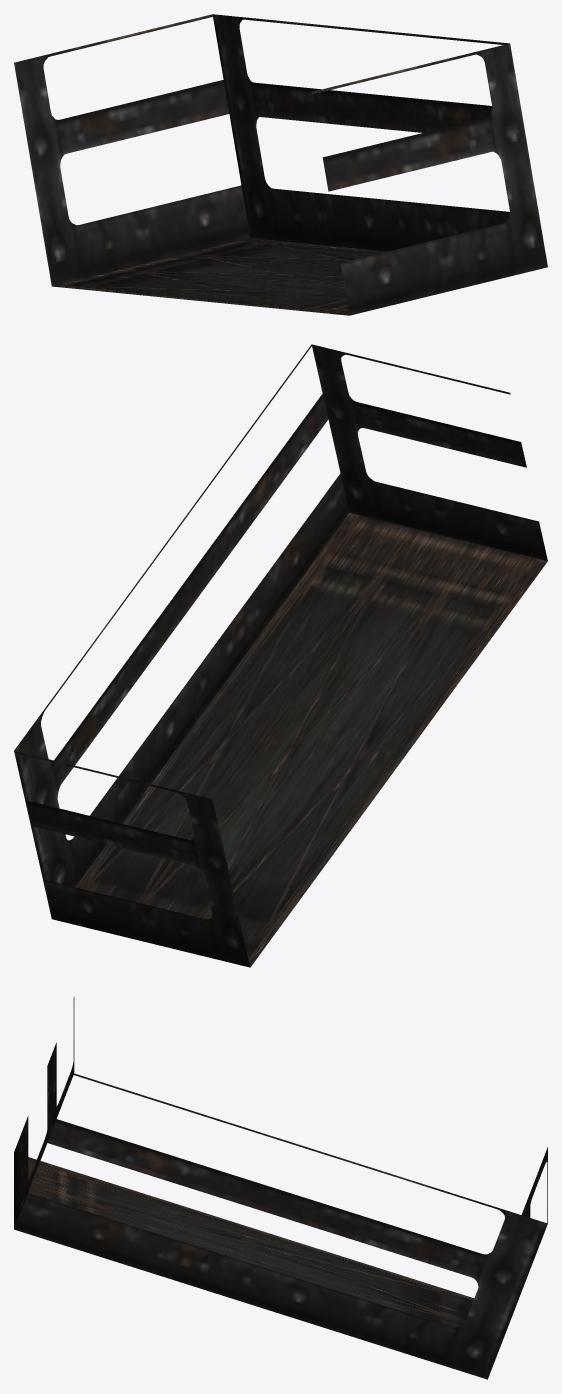
The model's file is CleanerDeck.fbx.
The picture shows the model from 3 angles, top to bottom: view 1: azimuth 30°, elevation 25°; view 2: azimuth 150°, elevation 25°; view 3: azimuth 270°, elevation 25°; orthographic projection. The views are drawn at different scales.
Parts seen in each view (by area): view 1: CleanerDeck; view 2: CleanerDeck; view 3: CleanerDeck.
Boxes of the visible parts, x1,y1,x2,y2 form: CleanerDeck: (14,14,547,315); CleanerDeck: (14,344,547,967); CleanerDeck: (14,996,547,1379).
Size of the model in its own units: 0.2378 by 0.4403 by 0.6958.
Materials: 1 (1 with a texture image).
